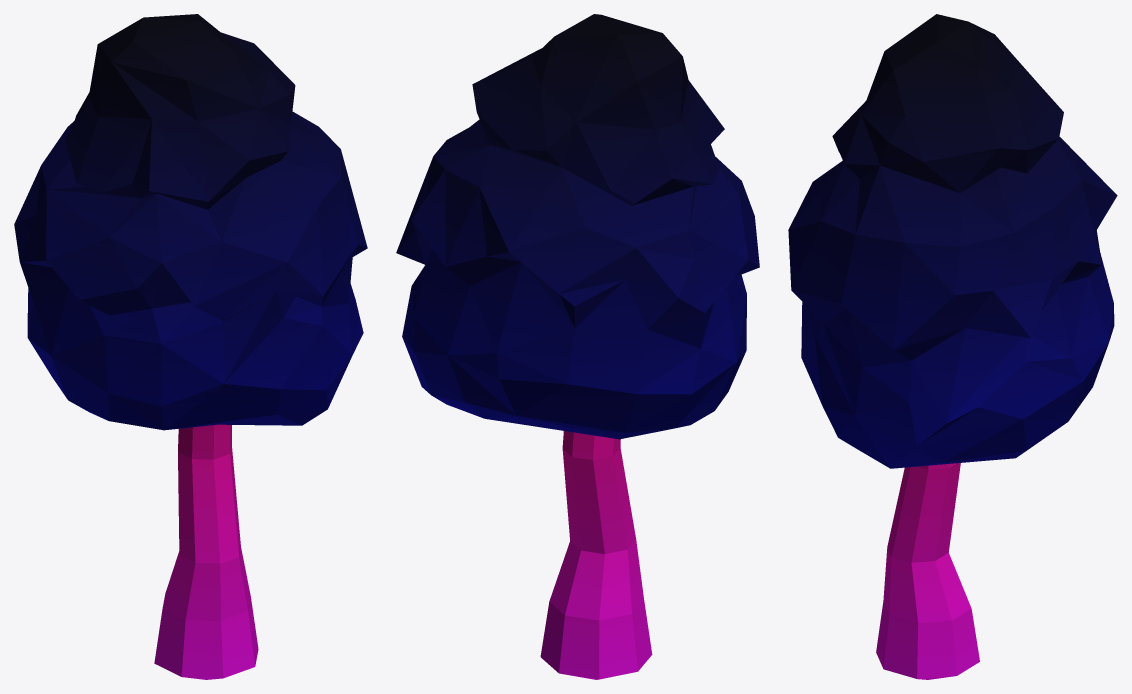
Rendered from synty-tree-round-03.gltf.
The picture shows the model from 3 angles, left to right: view 1: azimuth 30°, elevation 25°; view 2: azimuth 150°, elevation 25°; view 3: azimuth 270°, elevation 25°; orthographic projection. The views are drawn at different scales.
Parts seen in each view (by area): view 1: SM_Tree_Round_03; view 2: SM_Tree_Round_03; view 3: SM_Tree_Round_03.
Part boxes in pixels (x1,y1,x2,y2): SM_Tree_Round_03: (14, 14, 367, 679); SM_Tree_Round_03: (396, 14, 759, 679); SM_Tree_Round_03: (788, 14, 1117, 679).
Size of the model in its own units: 1.78 by 3.6 by 1.68.
